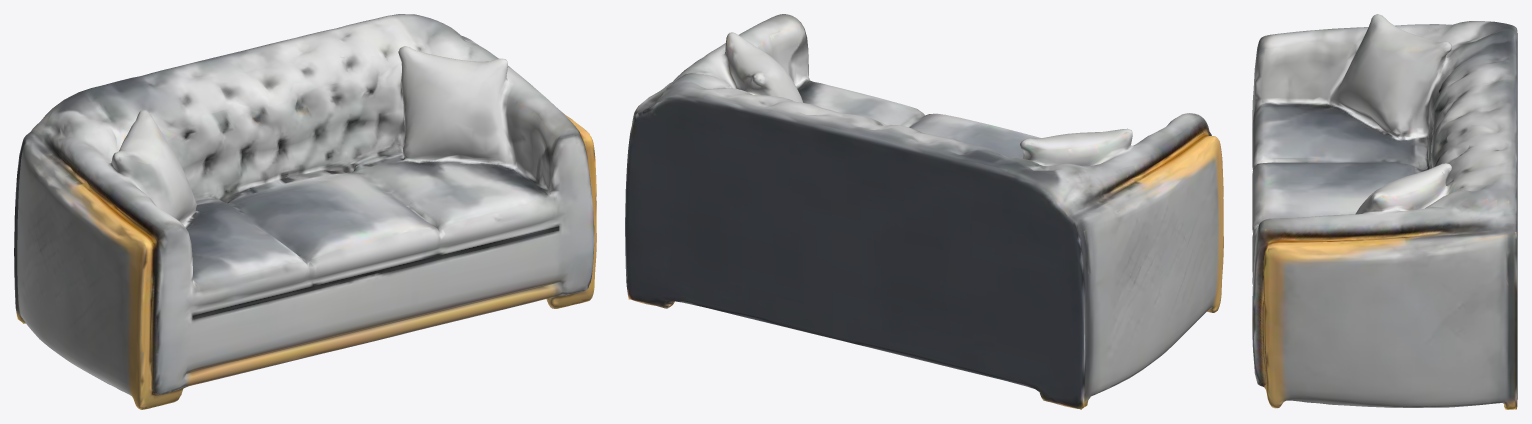
The model's file is card.glb.
The picture shows the model from 3 angles, left to right: view 1: azimuth 30°, elevation 25°; view 2: azimuth 150°, elevation 25°; view 3: azimuth 270°, elevation 25°; orthographic projection. The views are drawn at different scales.
Parts seen in each view (by area): view 1: model; view 2: model; view 3: model.
Boxes of the visible parts, left/top/right/bottom form: model: left=14, top=14, right=596, bottom=409; model: left=625, top=14, right=1223, bottom=409; model: left=1252, top=14, right=1517, bottom=409.
Size of the model in its own units: 2 by 0.8736 by 1.01.
Materials: 1 (1 with a texture image).
